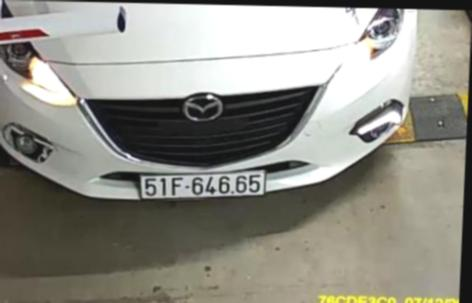License_Plate: (133, 161, 280, 215)
